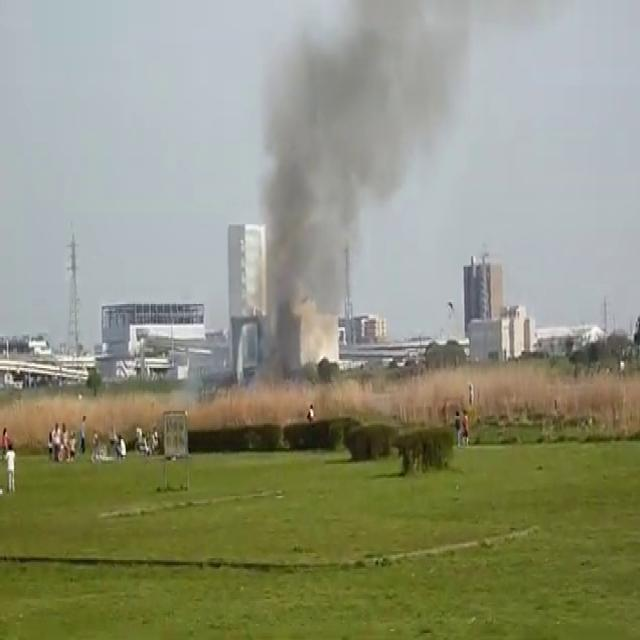Smoke: (237, 0, 452, 372)
